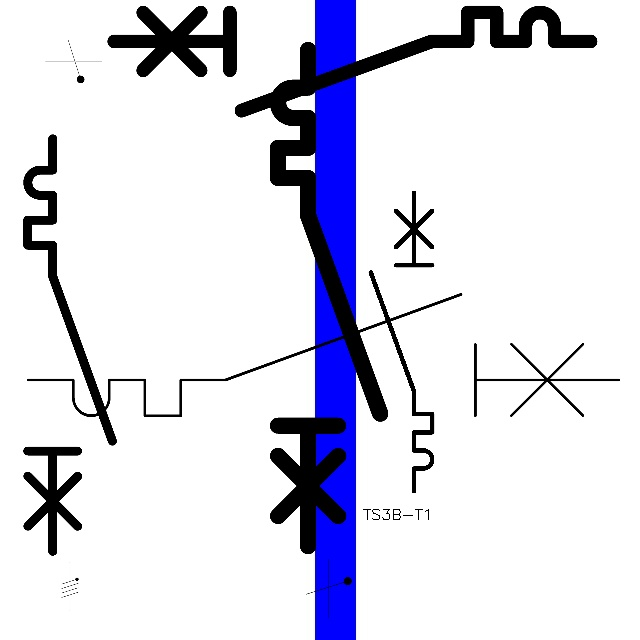interruptor_termomagnetico: (13, 279, 634, 431), (265, 37, 392, 559), (101, 0, 602, 122), (17, 128, 123, 561), (363, 185, 440, 499)
